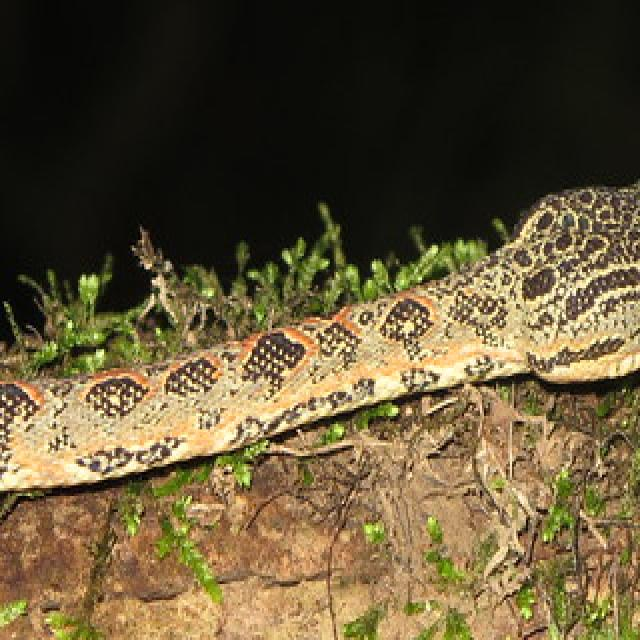snake: (0, 171, 640, 496)
